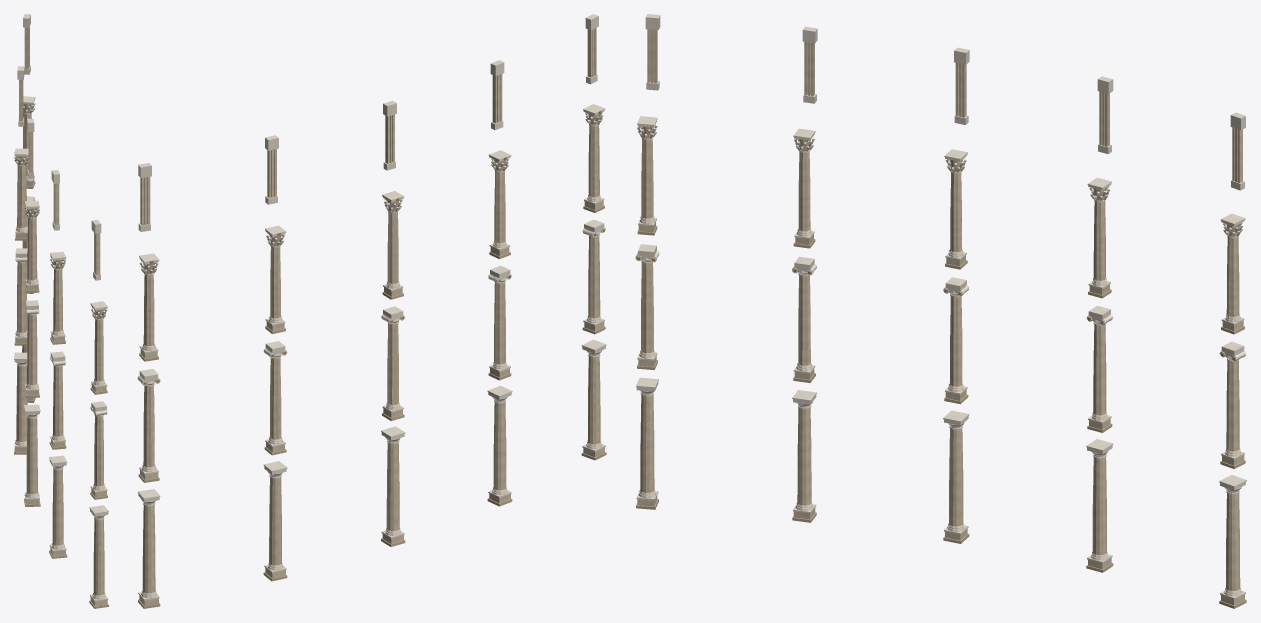
Rendered from COL_ColumnOrders_O5.obj.
3 views of the same model, side by side, from view 1: azimuth 30°, elevation 25°; view 2: azimuth 150°, elevation 25°; view 3: azimuth 270°, elevation 25° (orthographic). The views are drawn at different scales.
Visible parts, largest first — view 1: COL_ColumnOrders_O5; view 2: COL_ColumnOrders_O5; view 3: COL_ColumnOrders_O5.
Part boxes in pixels (bbox=[...]): COL_ColumnOrders_O5: bbox=[14, 14, 108, 608]; COL_ColumnOrders_O5: bbox=[137, 14, 606, 608]; COL_ColumnOrders_O5: bbox=[635, 14, 1246, 608].
Bounding box in the file's own units: 27.8 × 58.2 × 66.06.
4 materials, 4 textured.
